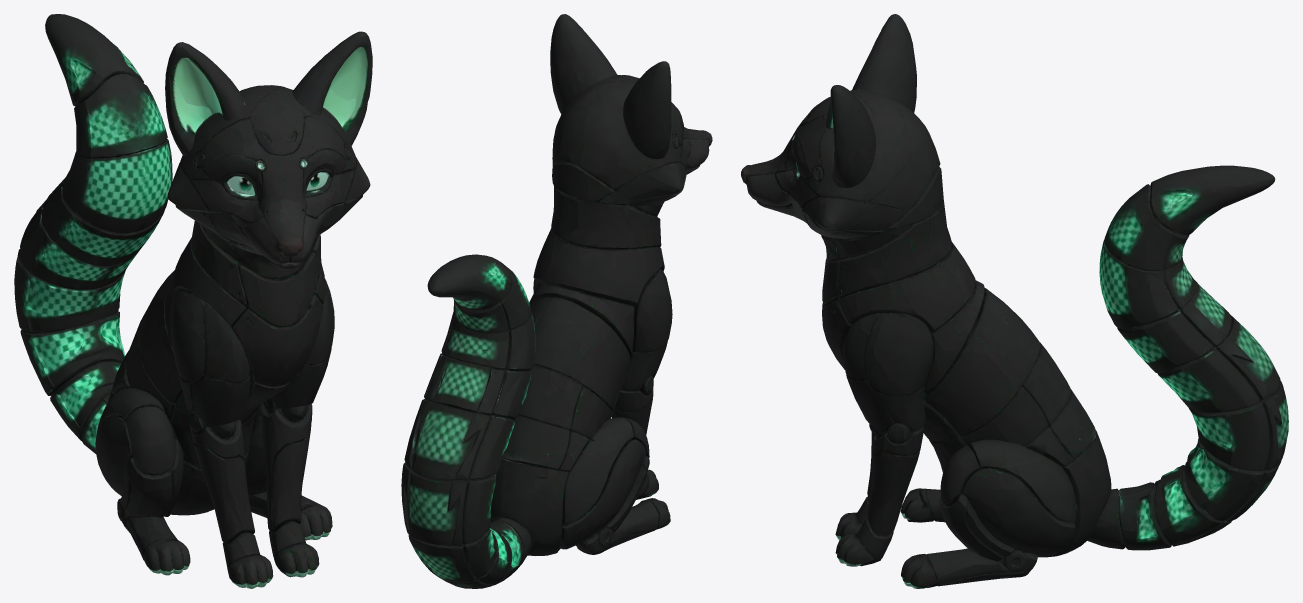
File: kora.glb
3 views of the same model, side by side, from view 1: azimuth 30°, elevation 25°; view 2: azimuth 150°, elevation 25°; view 3: azimuth 270°, elevation 25° (orthographic). The views are drawn at different scales.
Parts seen in each view (by area): view 1: mesh_node; view 2: mesh_node; view 3: mesh_node.
Boxes of the visible parts, left/top/right/bottom form: mesh_node: left=14, top=14, right=372, bottom=588; mesh_node: left=401, top=14, right=712, bottom=588; mesh_node: left=741, top=14, right=1288, bottom=588.
Size of the model in its own units: 0.6777 by 1.9 by 1.88.
1 material, 1 textured.
